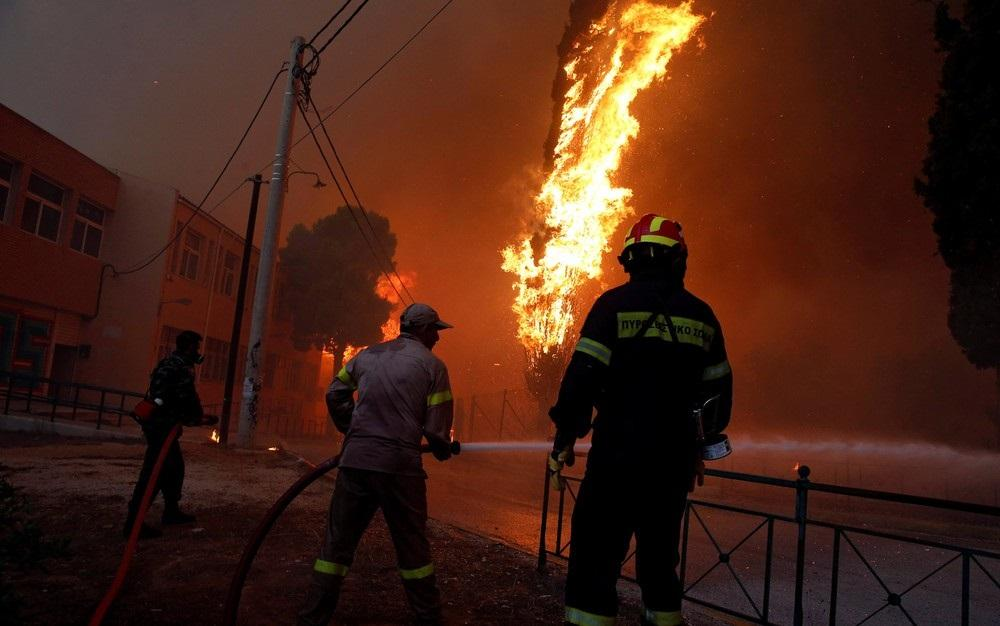fire: (509, 20, 689, 322)
